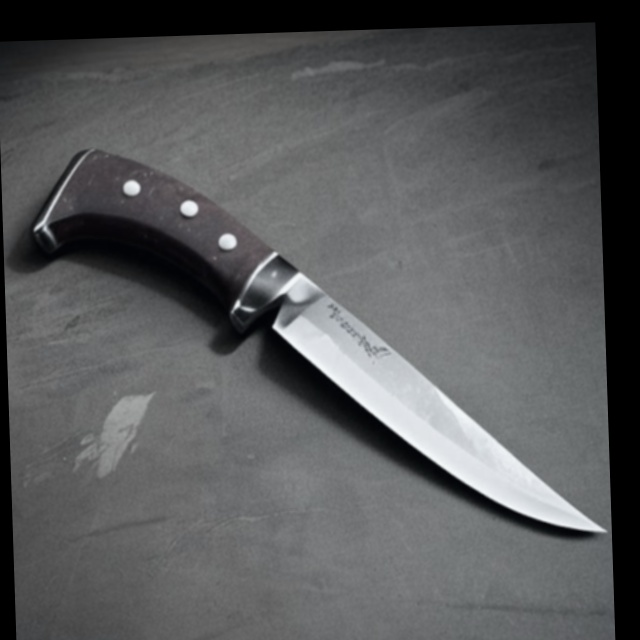Sharp-Object: (26, 125, 613, 576)
